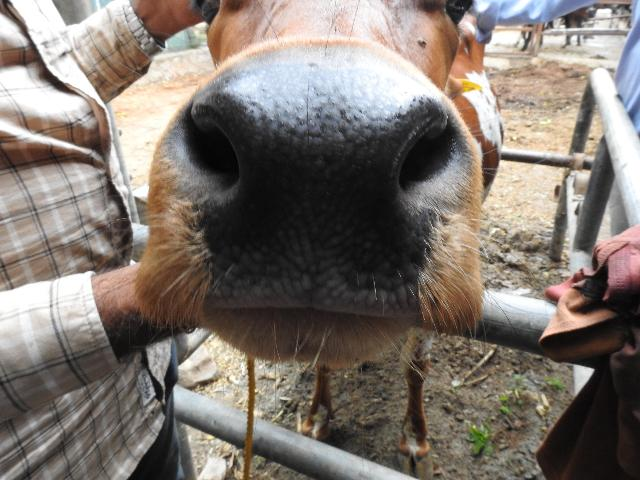Muzzle: (219, 71, 419, 284)
